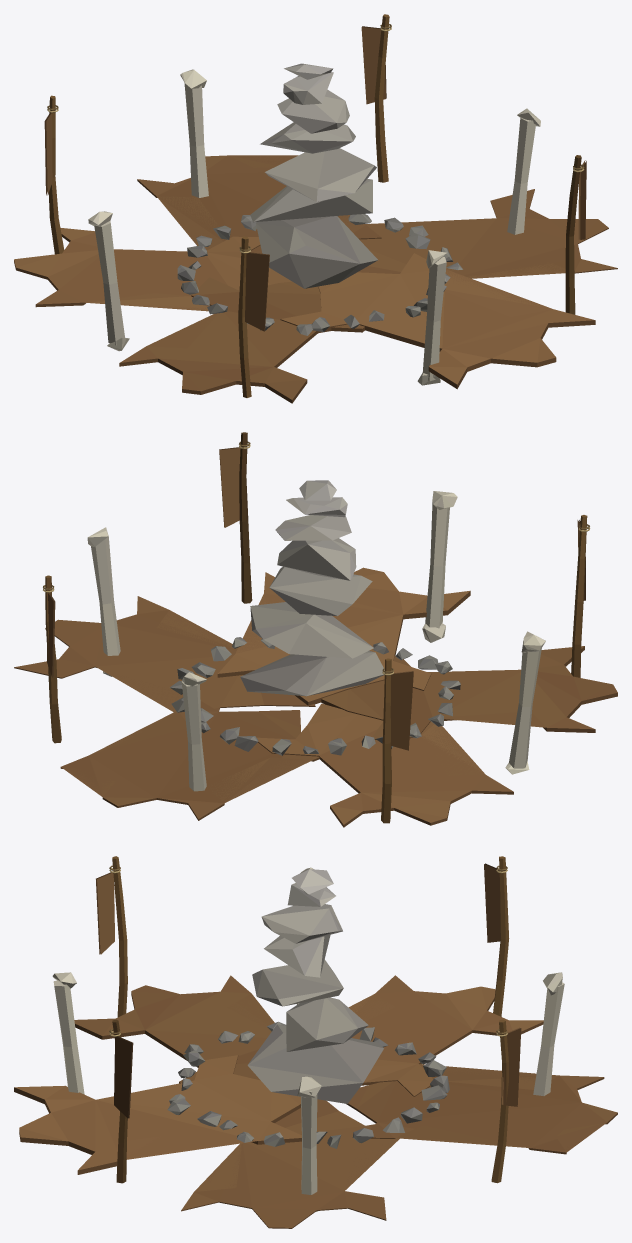
Rendered from stacked_stones_3_finita.glb.
The picture shows the model from 3 angles, top to bottom: view 1: azimuth 30°, elevation 25°; view 2: azimuth 150°, elevation 25°; view 3: azimuth 270°, elevation 25°; orthographic projection.
Parts seen in each view (by area): view 1: stacked_stones_3_finita; view 2: stacked_stones_3_finita; view 3: stacked_stones_3_finita.
Boxes of the visible parts, x1,y1,x2,y2 form: stacked_stones_3_finita: (14, 14, 617, 403); stacked_stones_3_finita: (14, 432, 617, 827); stacked_stones_3_finita: (14, 856, 617, 1228).
Size of the model in its own units: 6.94 by 3.13 by 7.07.
